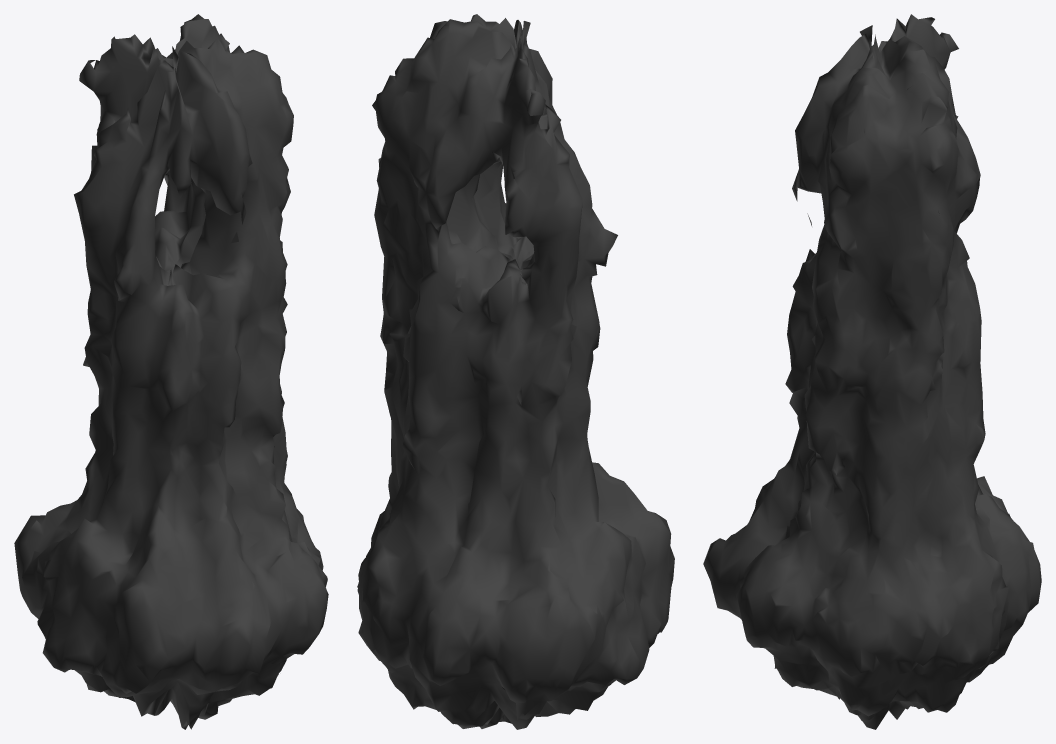
Rendered from cluster-1.glb.
3 renders of one model, left to right at view 1: azimuth 30°, elevation 25°; view 2: azimuth 150°, elevation 25°; view 3: azimuth 270°, elevation 25°, orthographic. The views are drawn at different scales.
Visible parts, largest first — view 1: geometry_0; view 2: geometry_0; view 3: geometry_0.
Part boxes in pixels (bbox=[...]): geometry_0: bbox=[14, 14, 328, 729]; geometry_0: bbox=[357, 14, 674, 729]; geometry_0: bbox=[703, 14, 1041, 729].
Bounding box in the file's own units: 0.4009 × 1 × 0.4452.
Materials: 1 (1 with a texture image).
